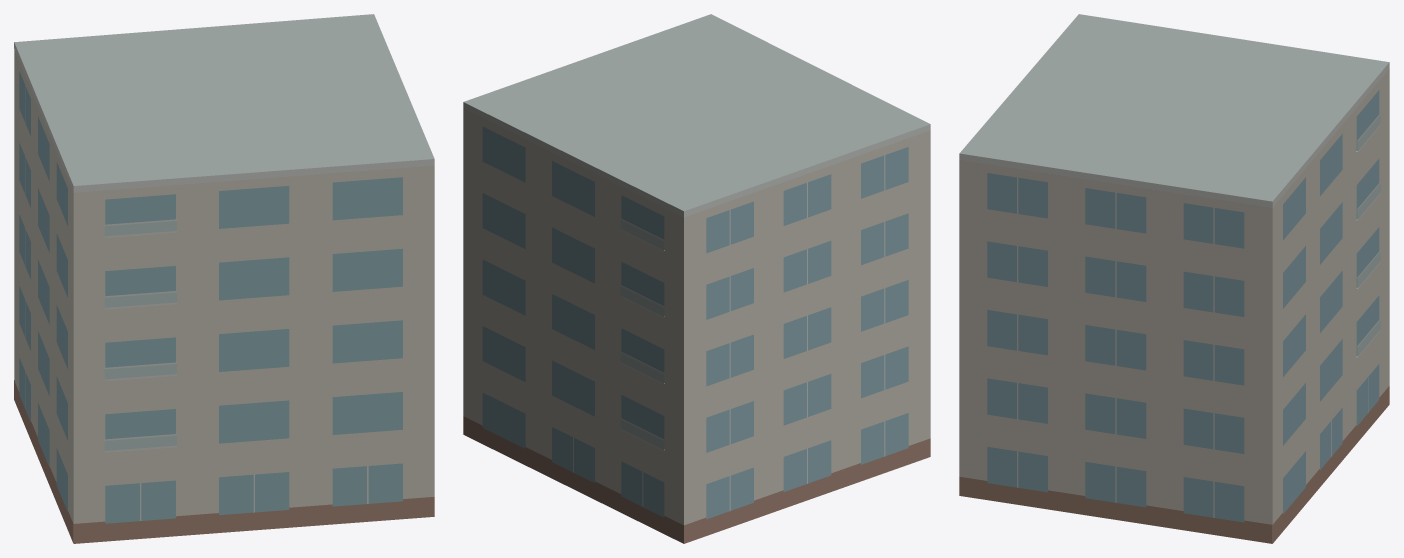
File: survey-upis-32952255.glb
3 renders of one model, left to right at view 1: azimuth 30°, elevation 25°; view 2: azimuth 150°, elevation 25°; view 3: azimuth 270°, elevation 25°, orthographic. The views are drawn at different scales.
Parts seen in each view (by area): view 1: survey-upis-32952255.tmp; view 2: survey-upis-32952255.tmp; view 3: survey-upis-32952255.tmp.
Part boxes in pixels (bbox=[...]): survey-upis-32952255.tmp: bbox=[14, 14, 434, 543]; survey-upis-32952255.tmp: bbox=[463, 14, 930, 543]; survey-upis-32952255.tmp: bbox=[959, 14, 1389, 543].
Size of the model in its own units: 15.69 by 13.35 by 15.21.
